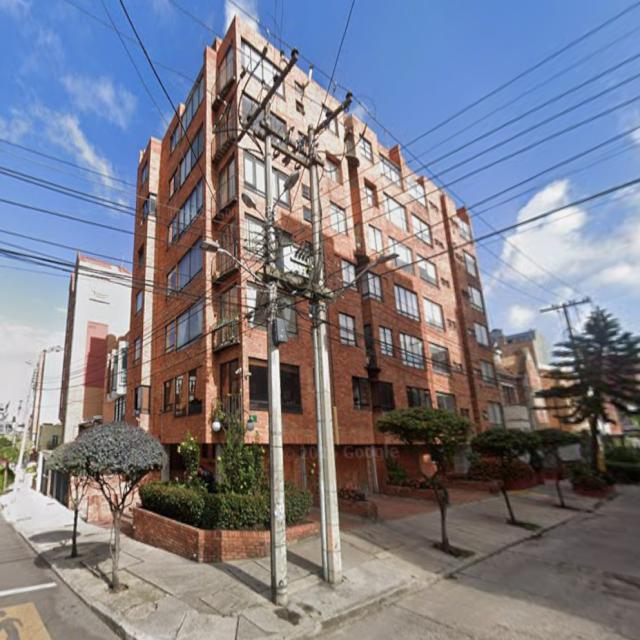fachada: (124, 18, 311, 477), (60, 255, 131, 441), (491, 330, 549, 428), (102, 336, 128, 422)
poste: (314, 296, 342, 583), (267, 279, 287, 606), (312, 312, 328, 581), (541, 298, 590, 383), (15, 371, 36, 487)
